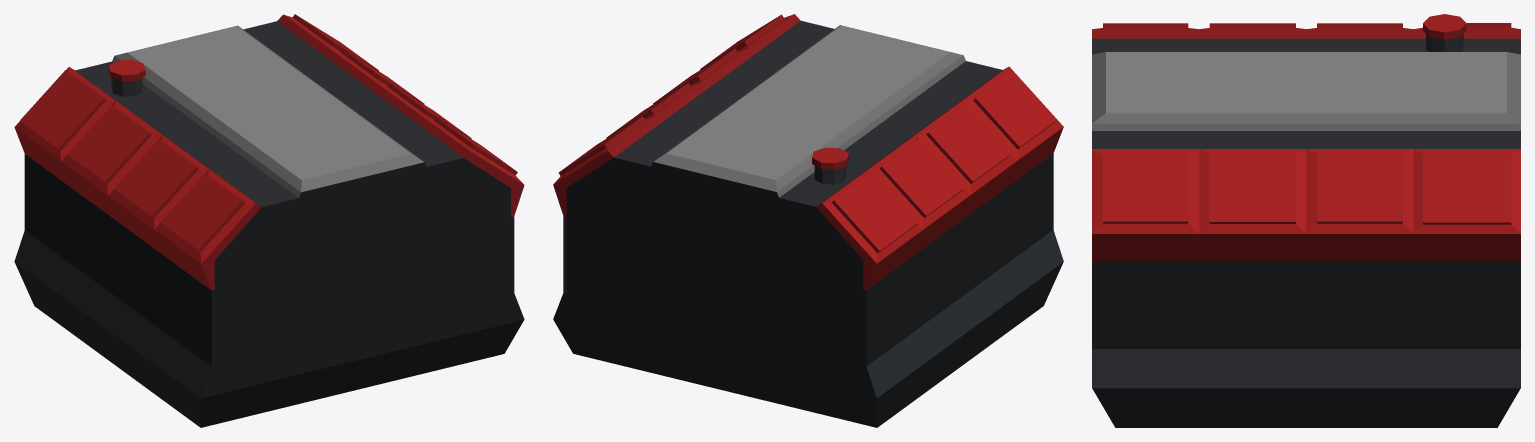
The model's file is Muscle_Engine.FBX.
3 views of the same model, side by side, from view 1: azimuth 30°, elevation 25°; view 2: azimuth 150°, elevation 25°; view 3: azimuth 270°, elevation 25° (orthographic). The views are drawn at different scales.
Parts seen in each view (by area): view 1: Muscle_Engine; view 2: Muscle_Engine; view 3: Muscle_Engine.
Part boxes in pixels (left/top/right/bottom): Muscle_Engine: left=14, top=14, right=524, bottom=427; Muscle_Engine: left=553, top=14, right=1063, bottom=427; Muscle_Engine: left=1092, top=14, right=1520, bottom=427.
Bounding box in the file's own units: 200 × 200 × 141.
